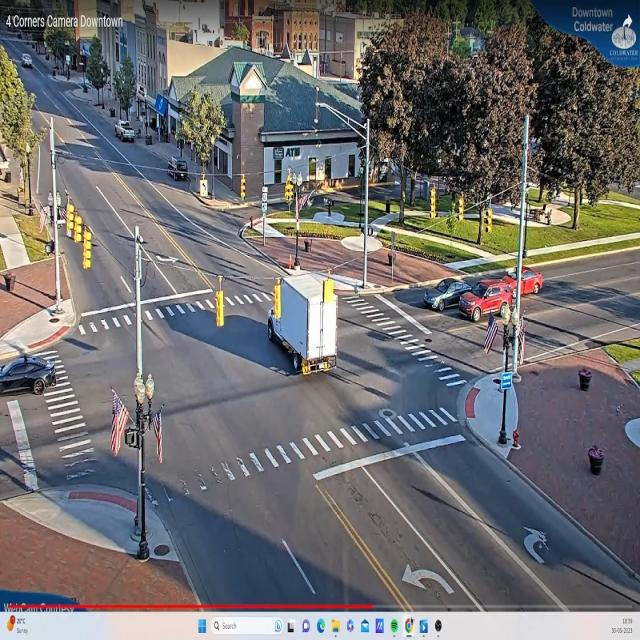car: (458, 280, 512, 323), (0, 352, 54, 394), (422, 277, 468, 313), (510, 262, 543, 300), (165, 159, 189, 180), (116, 123, 136, 143)
truck: (249, 268, 340, 376)
